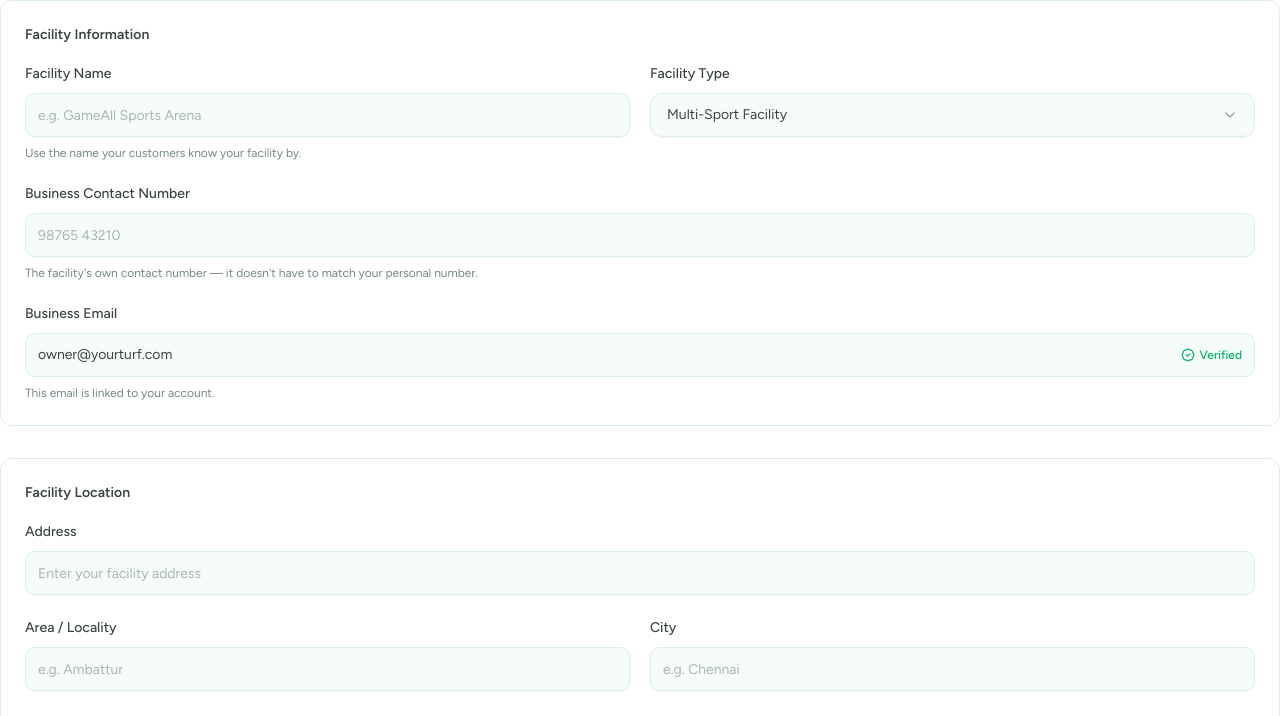
Test case: FacilityDetailsForm › reports an empty facility name on blur
Click the field labelled "Facility Name": [328, 115] box x1=25 y1=93 x2=630 y2=137
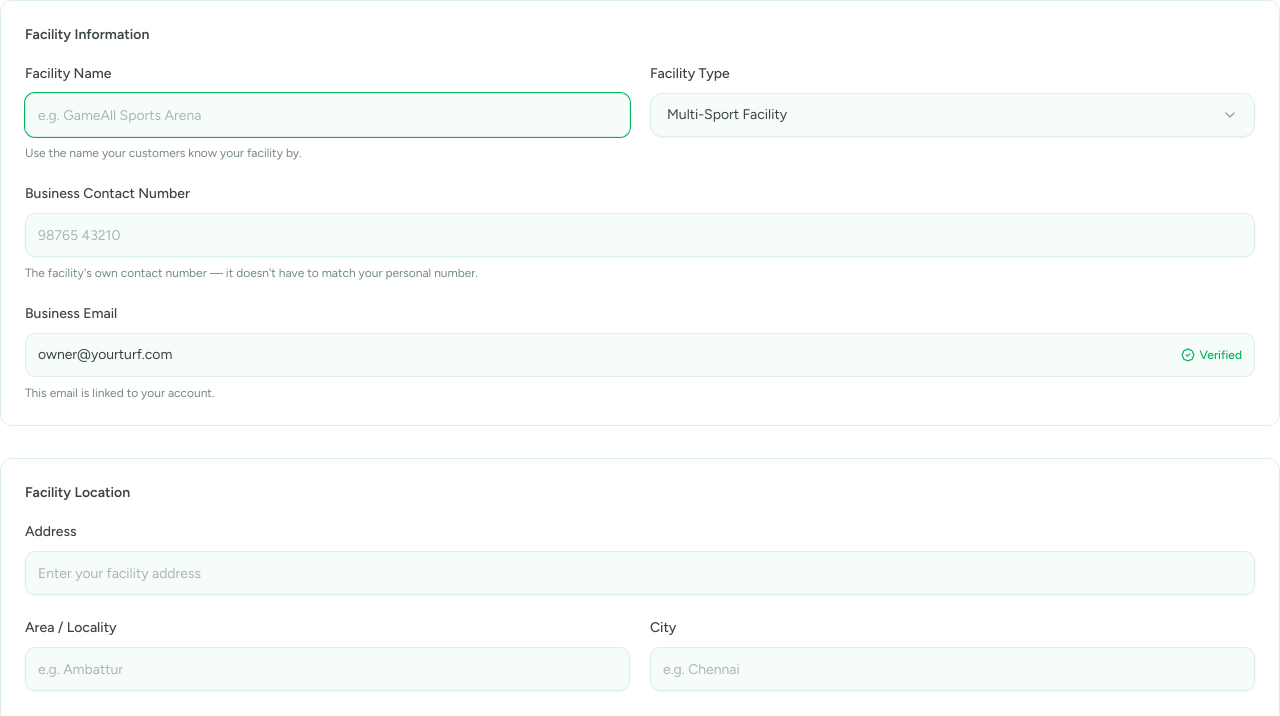
Press Tab
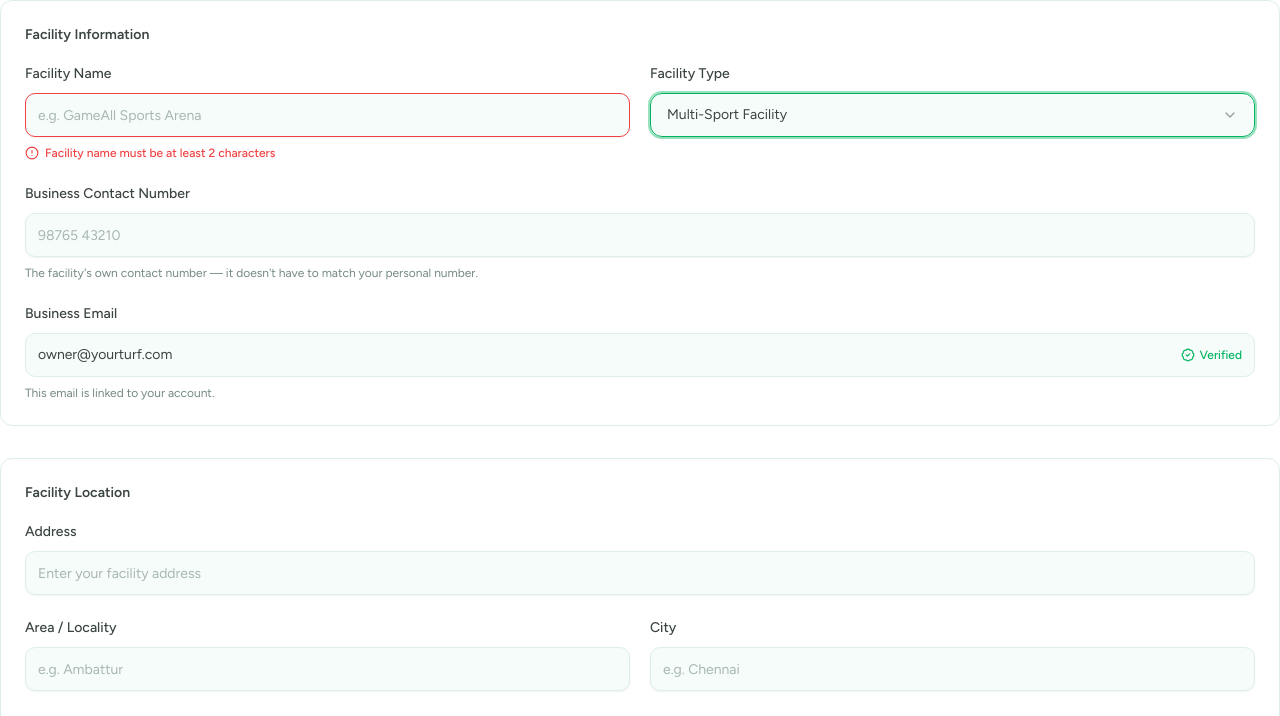
Result: the text "Facility name must be at least 2 characters" is shown at x1=45 y1=145 x2=275 y2=161
